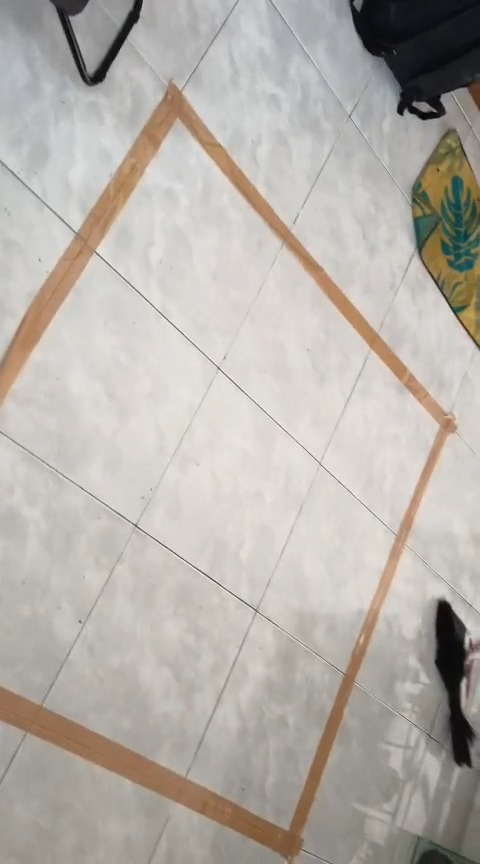floor marking: (1, 83, 455, 863)
